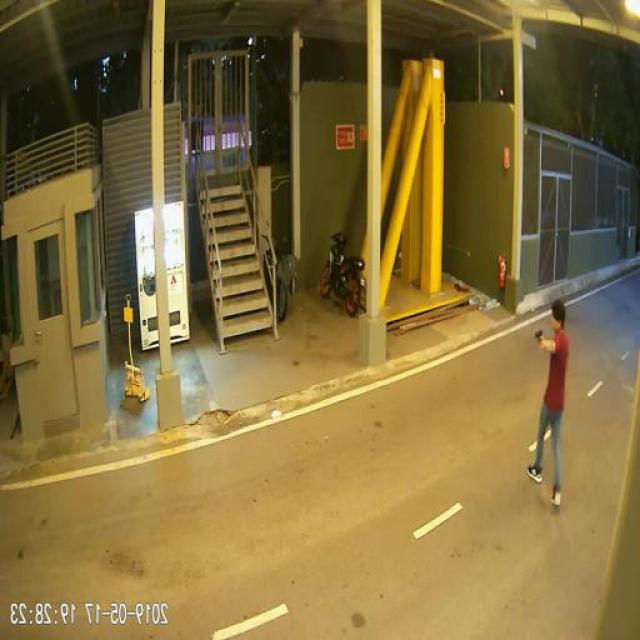Gun: (536, 326, 545, 345)
